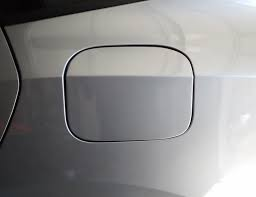closed: (57, 42, 198, 147)
